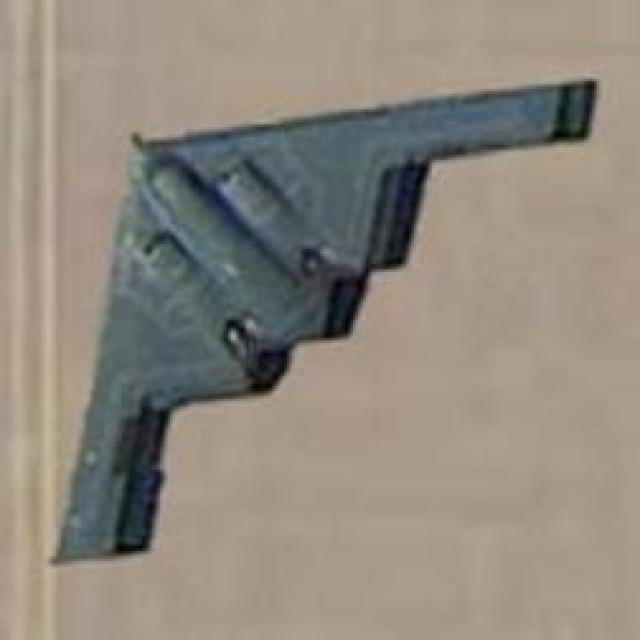B-2_TopDown: (46, 71, 599, 564)
